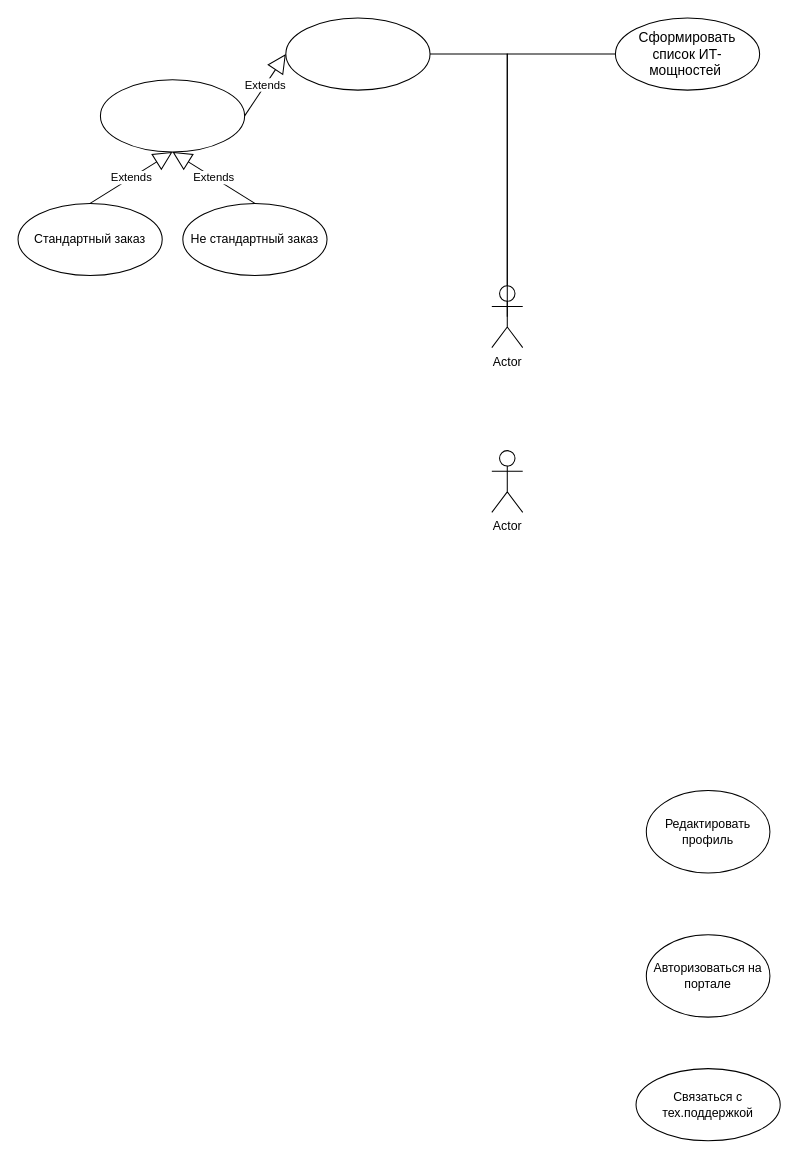
Image size: 798x1159. Some labels were removed from this diagram. The shapes that lost their labels are listed below. From the top down, each one's box as (x1, y1, x2, y2) in pixels, then its label:
(285, 17, 430, 90): Заказать ИТ-мощности
(99, 79, 245, 152): Рассчитать стоимость ИТ-мощности
